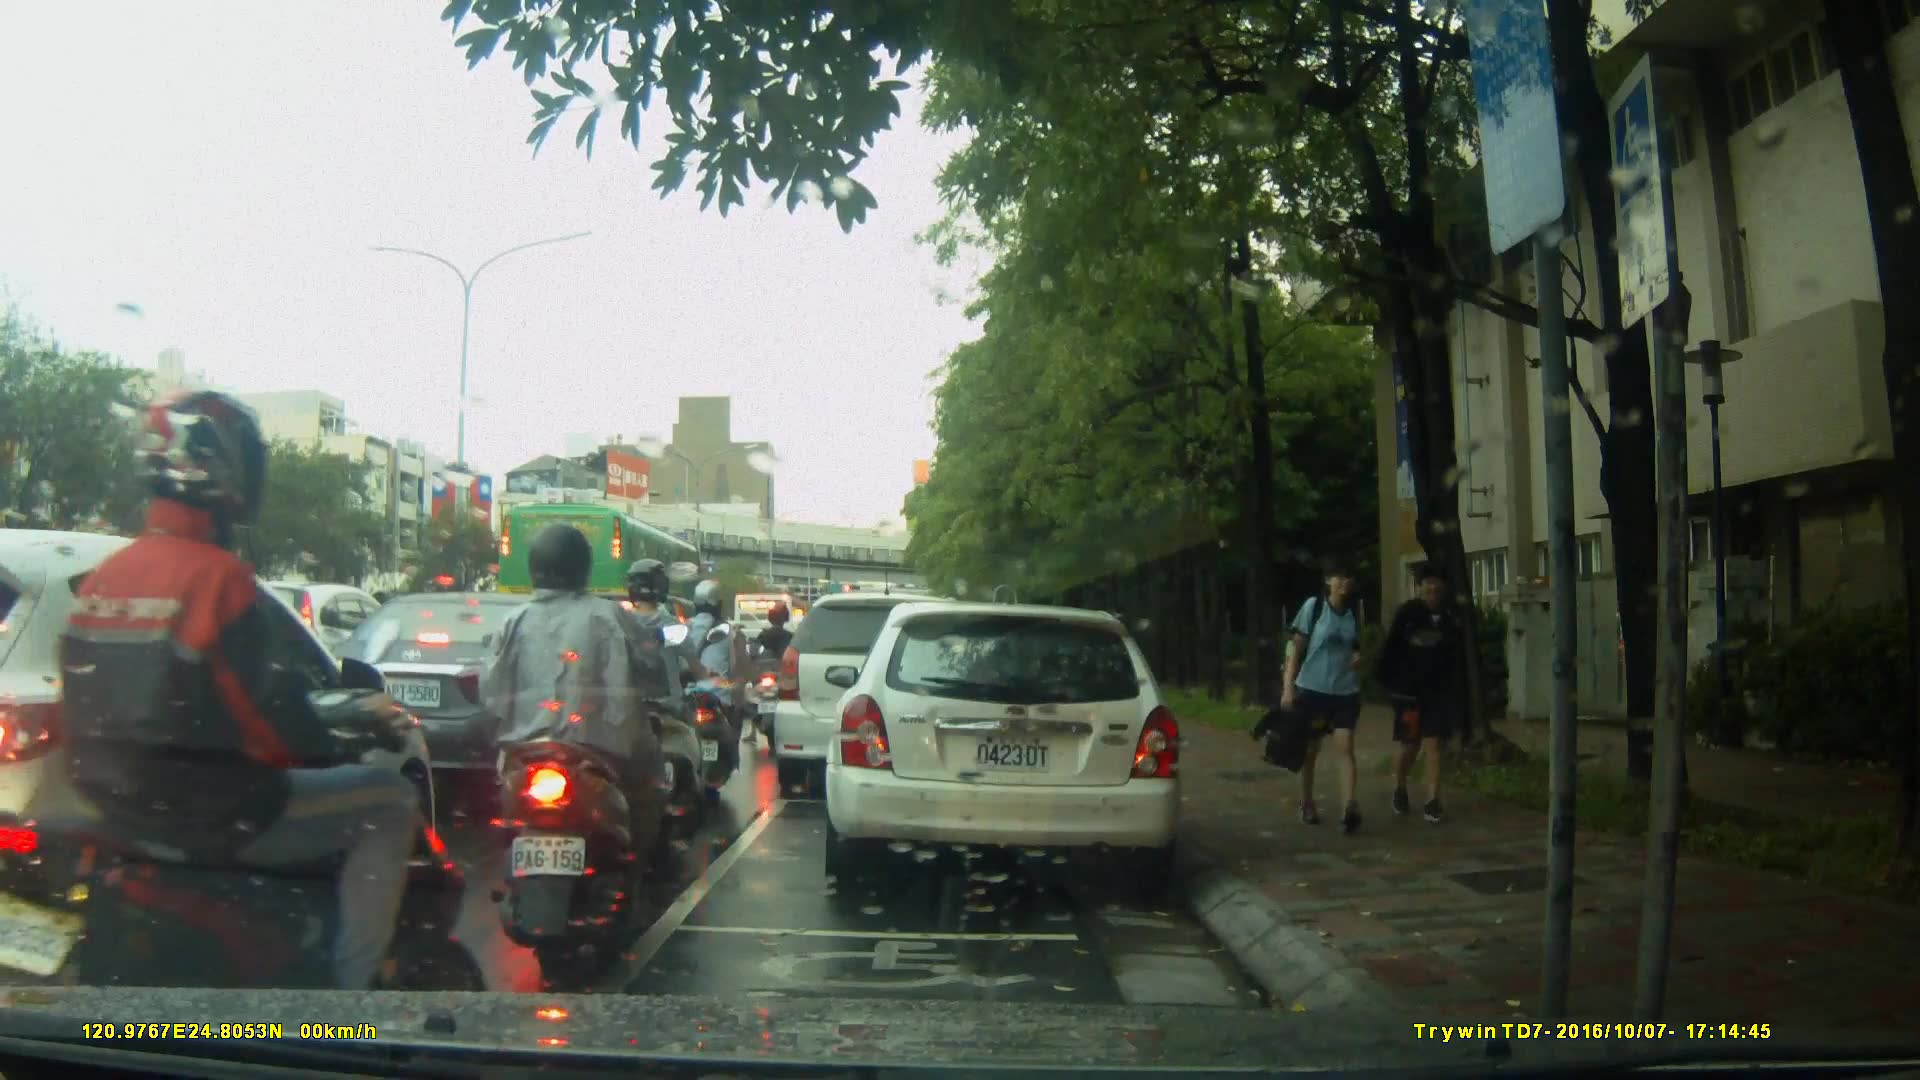pedestrian: (1266, 549, 1383, 837), (1392, 553, 1478, 826)
rider: (9, 389, 459, 1080), (480, 531, 690, 945), (596, 562, 714, 845), (673, 580, 751, 792), (751, 601, 804, 747)
vehicle: (1, 528, 451, 988), (831, 592, 1196, 897), (317, 590, 627, 791), (770, 591, 999, 803), (495, 500, 707, 636)
